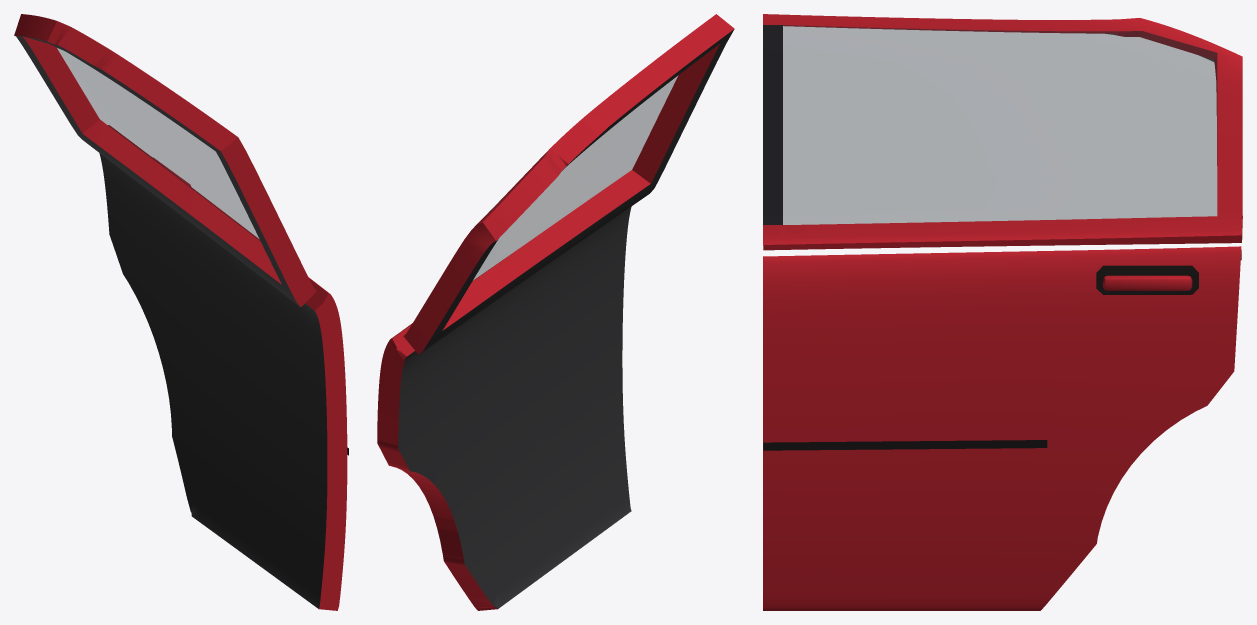
The model's file is door_rear_left.glb.
The picture shows the model from 3 angles, left to right: view 1: azimuth 30°, elevation 25°; view 2: azimuth 150°, elevation 25°; view 3: azimuth 270°, elevation 25°; orthographic projection. The views are drawn at different scales.
Parts seen in each view (by area): view 1: door_rear_left; view 2: door_rear_left; view 3: door_rear_left.
Boxes of the visible parts, bbox=[...] form: door_rear_left: bbox=[14, 14, 348, 610]; door_rear_left: bbox=[377, 14, 734, 610]; door_rear_left: bbox=[763, 14, 1242, 610].
Size of the model in its own units: 0.2973 by 1.08 by 0.8614.
